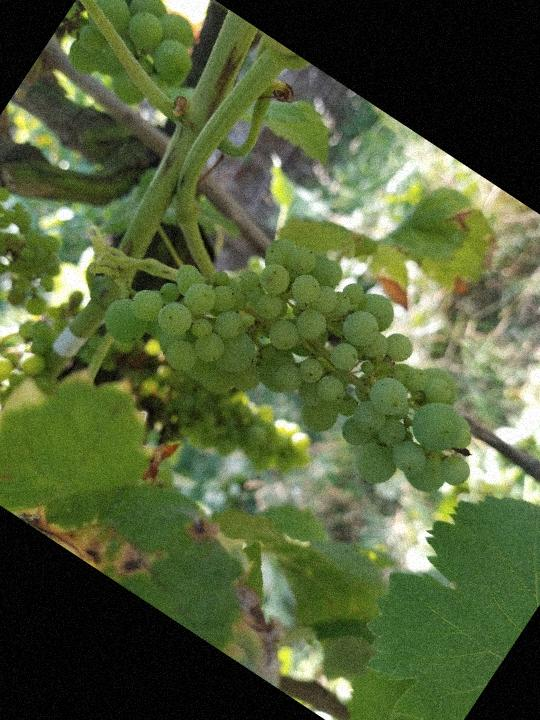grape: (91, 168, 531, 548)
